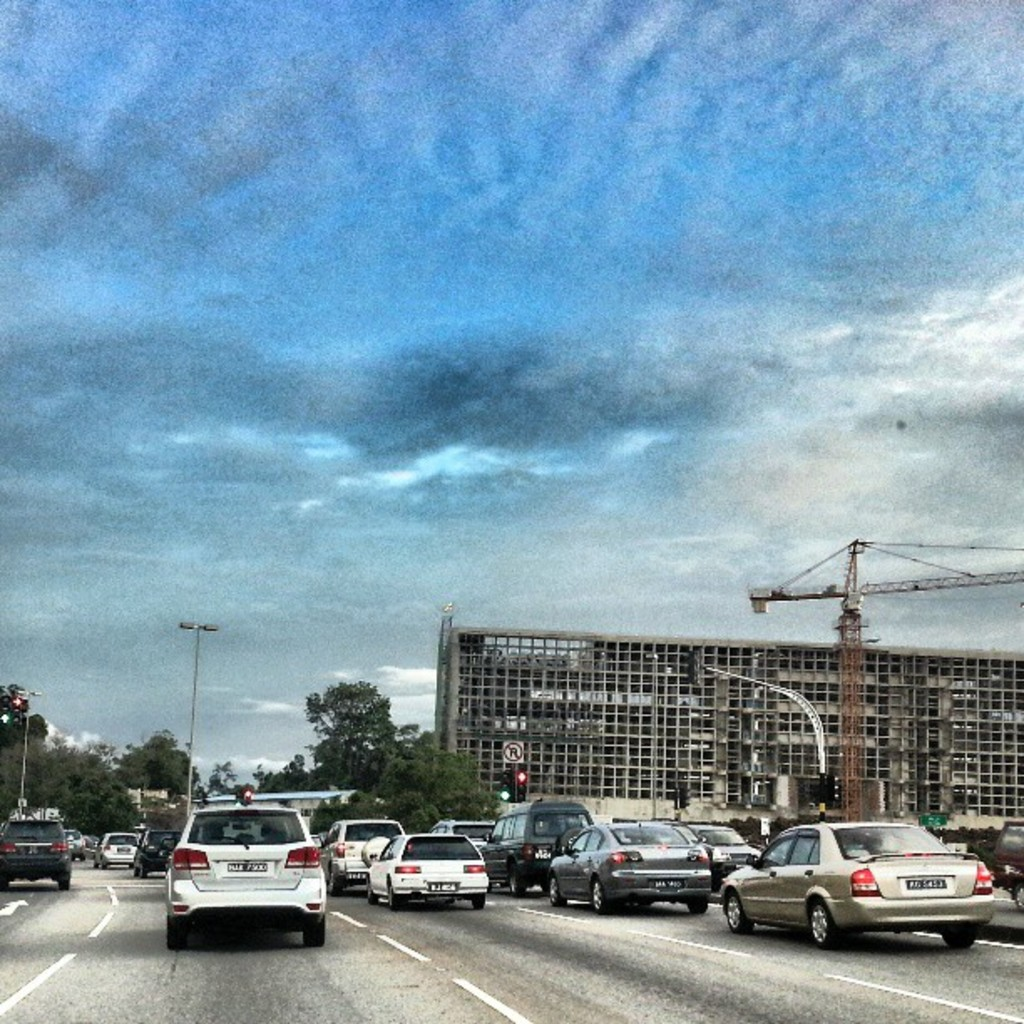Car: (717, 833, 1010, 957), (158, 793, 326, 948), (550, 824, 717, 918), (364, 831, 491, 910), (483, 803, 592, 893), (322, 814, 403, 895), (0, 811, 75, 886), (697, 824, 761, 886), (138, 826, 180, 875), (93, 829, 140, 870)
